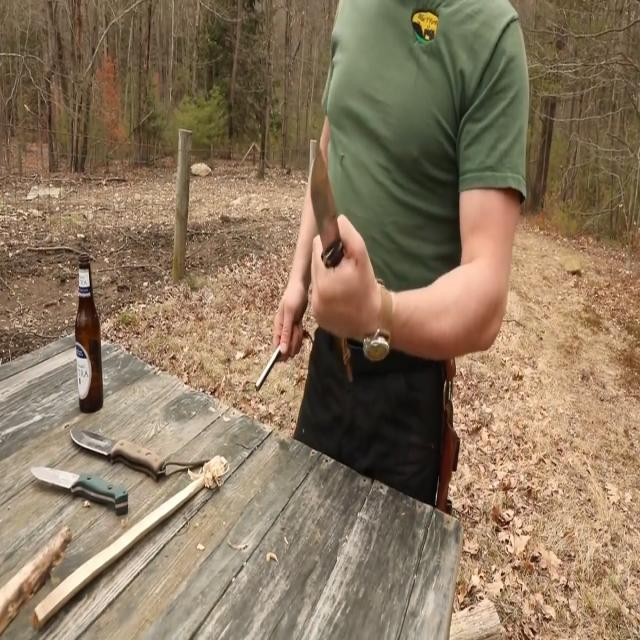knife: (71, 423, 169, 485), (31, 463, 133, 518), (311, 137, 343, 270)
